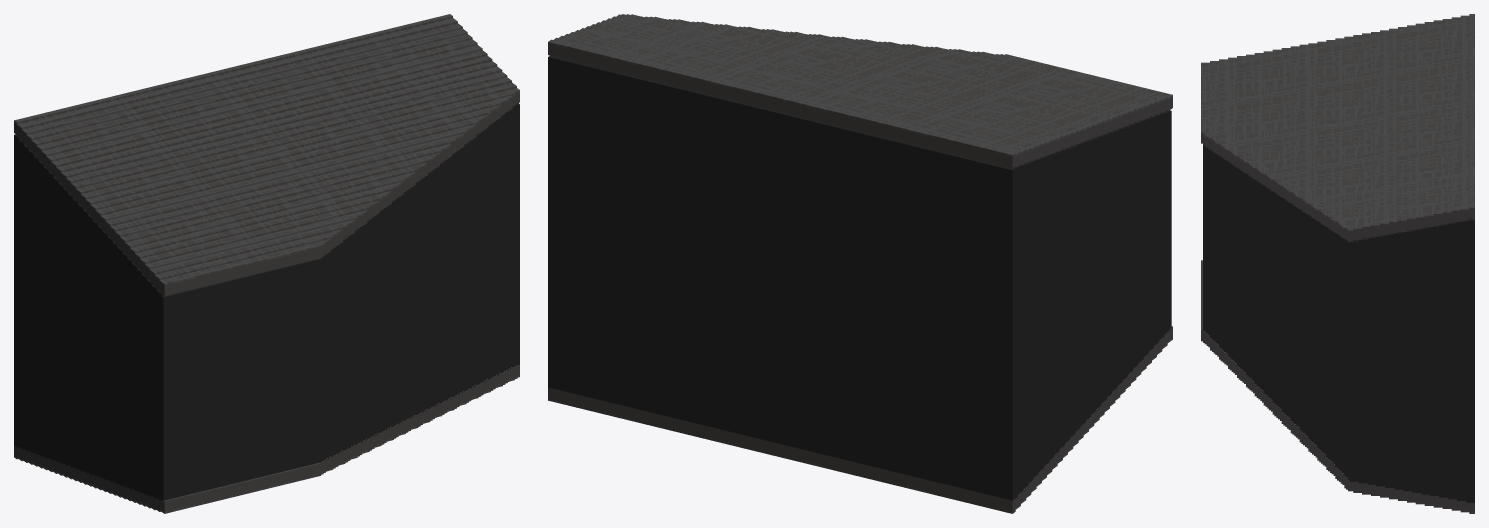
The model's file is Space ship-23.obj.
3 renders of one model, left to right at view 1: azimuth 30°, elevation 25°; view 2: azimuth 150°, elevation 25°; view 3: azimuth 270°, elevation 25°, orthographic. The views are drawn at different scales.
Size of the model in its own units: 25.6 by 18.9 by 15.3.
1 material, 1 textured.
